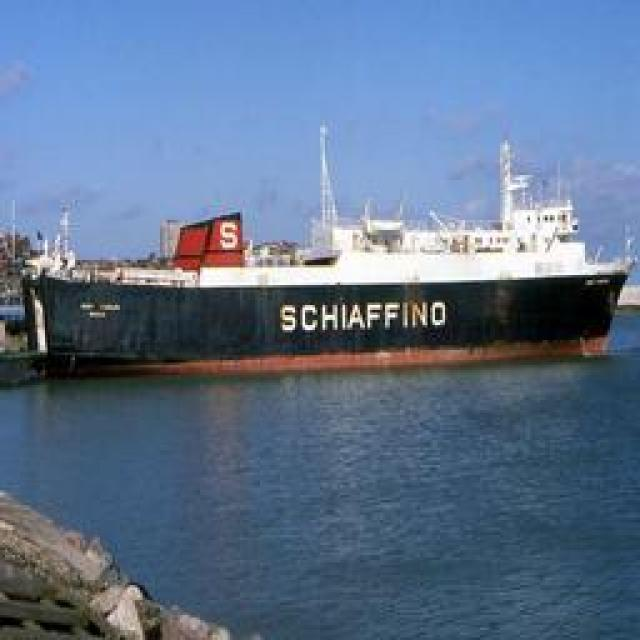ship2: (20, 123, 632, 381)
